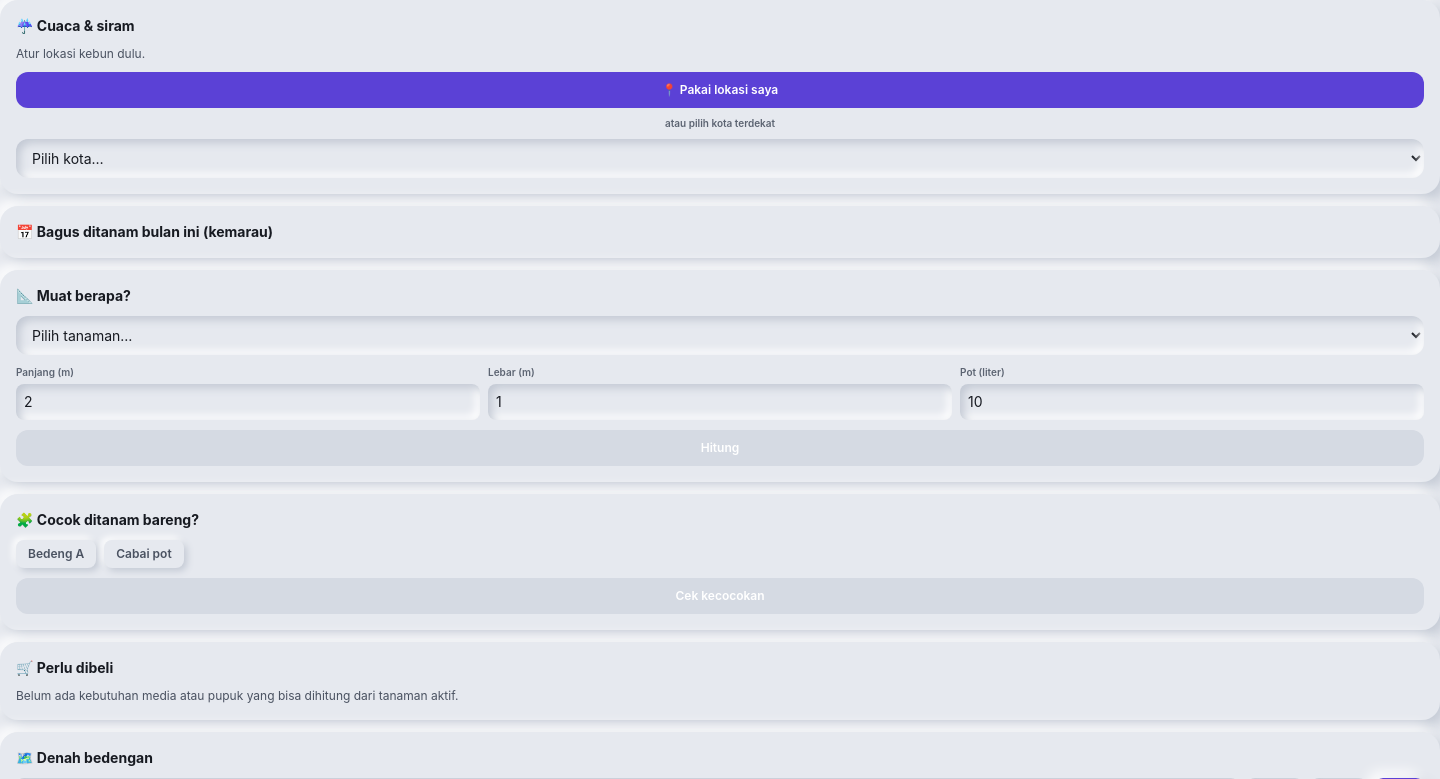
GardenPlanner › menyebut izin ditolak hanya saat memang ditolak
This screenshot has width=1440, height=779.
Step 1. Click the button "📍 Pakai lokasi saya" → (720, 90), box x1=16 y1=72 x2=1424 y2=108
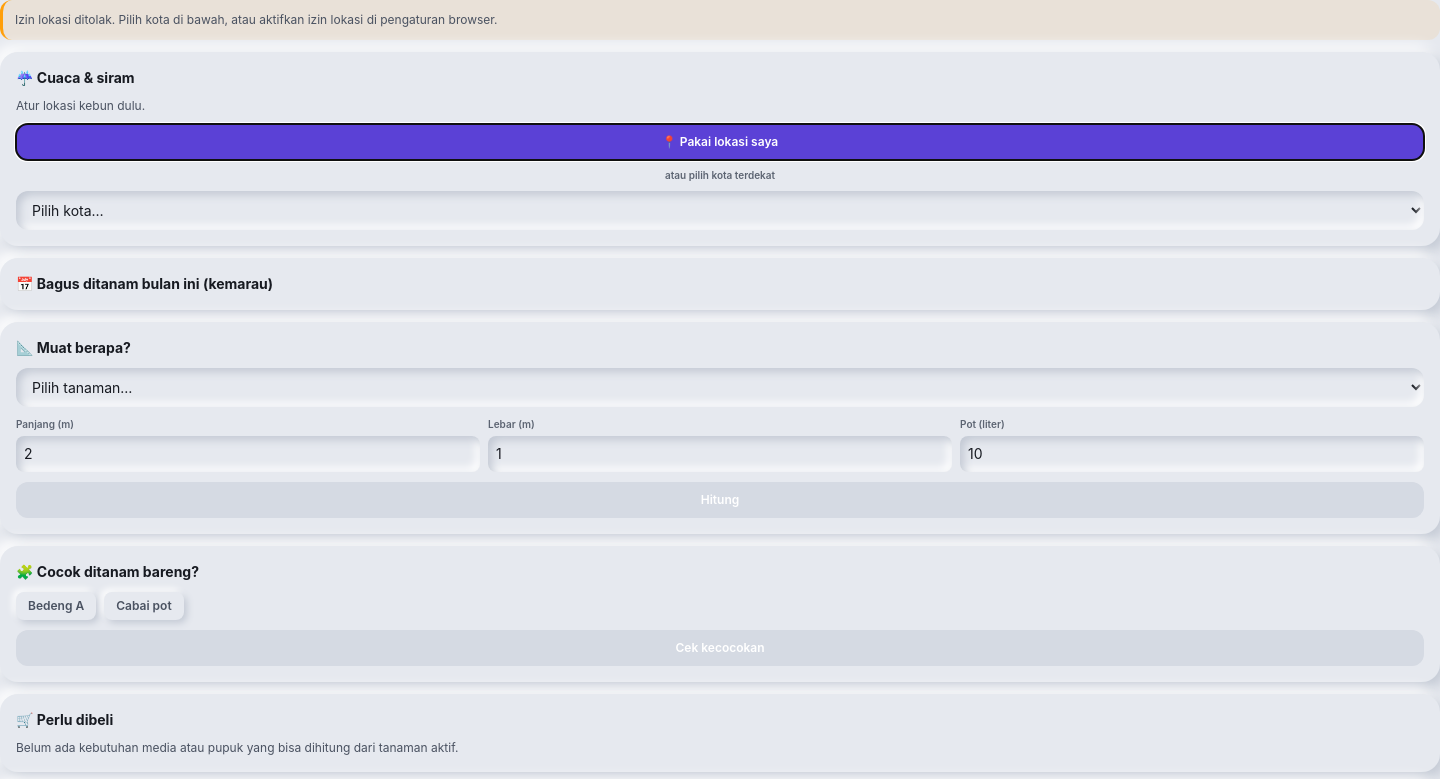
Expected: the text "Izin lokasi ditolak" is shown, x1=15 y1=12 x2=498 y2=27
